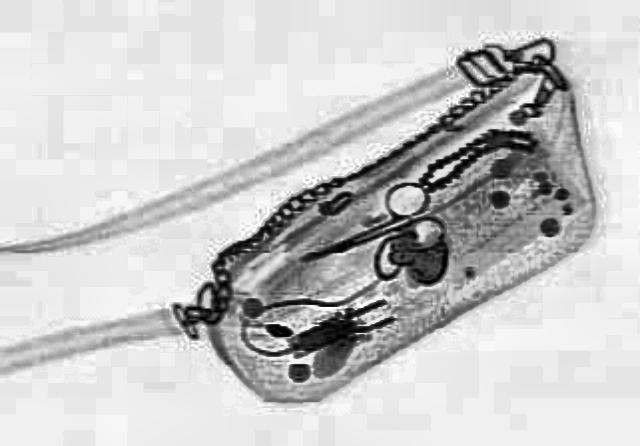Scissors: (282, 176, 463, 281)
